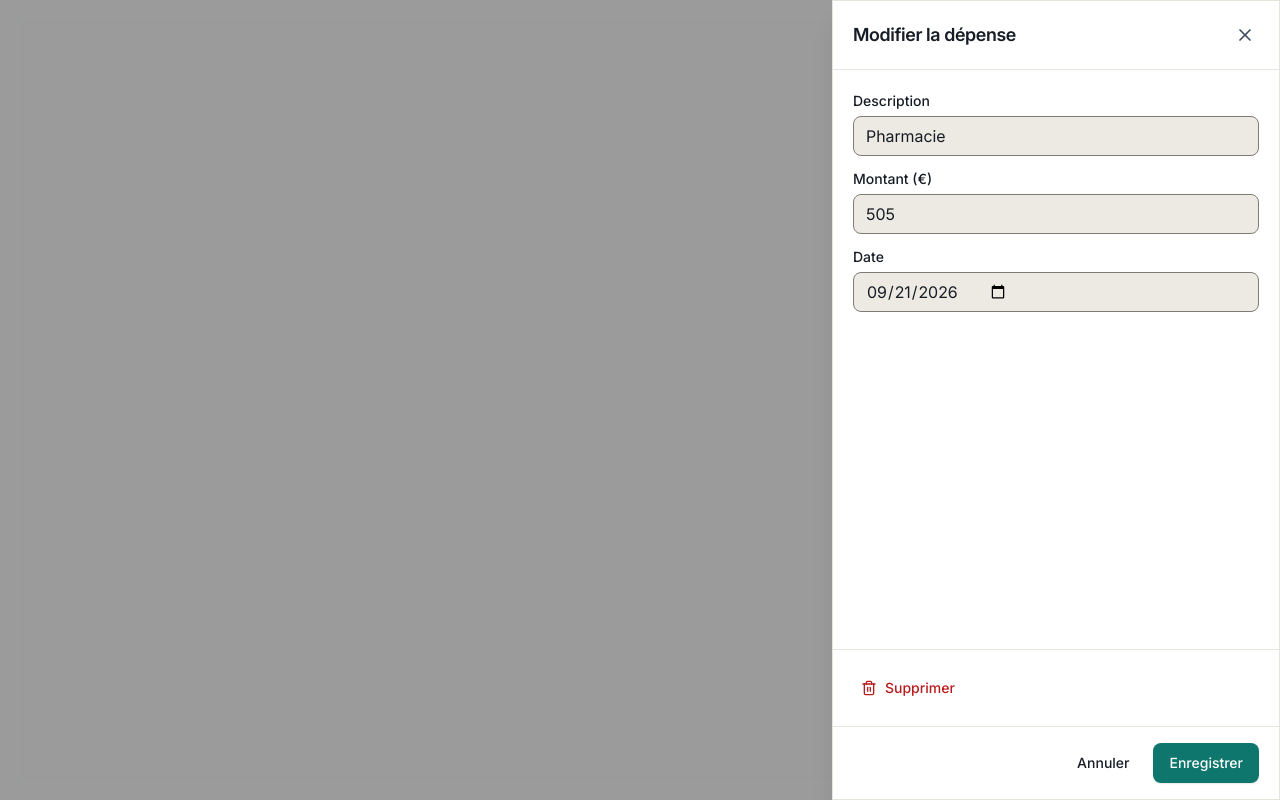
it: ExpenseEditDrawer — a refused date › names the date under its field, linked to the field
Type "2099-01-01" into the date field with test id "expense-edit-occurred-on".
click(1056, 292); type("2099-01-01")  # box [853,272,1259,312]
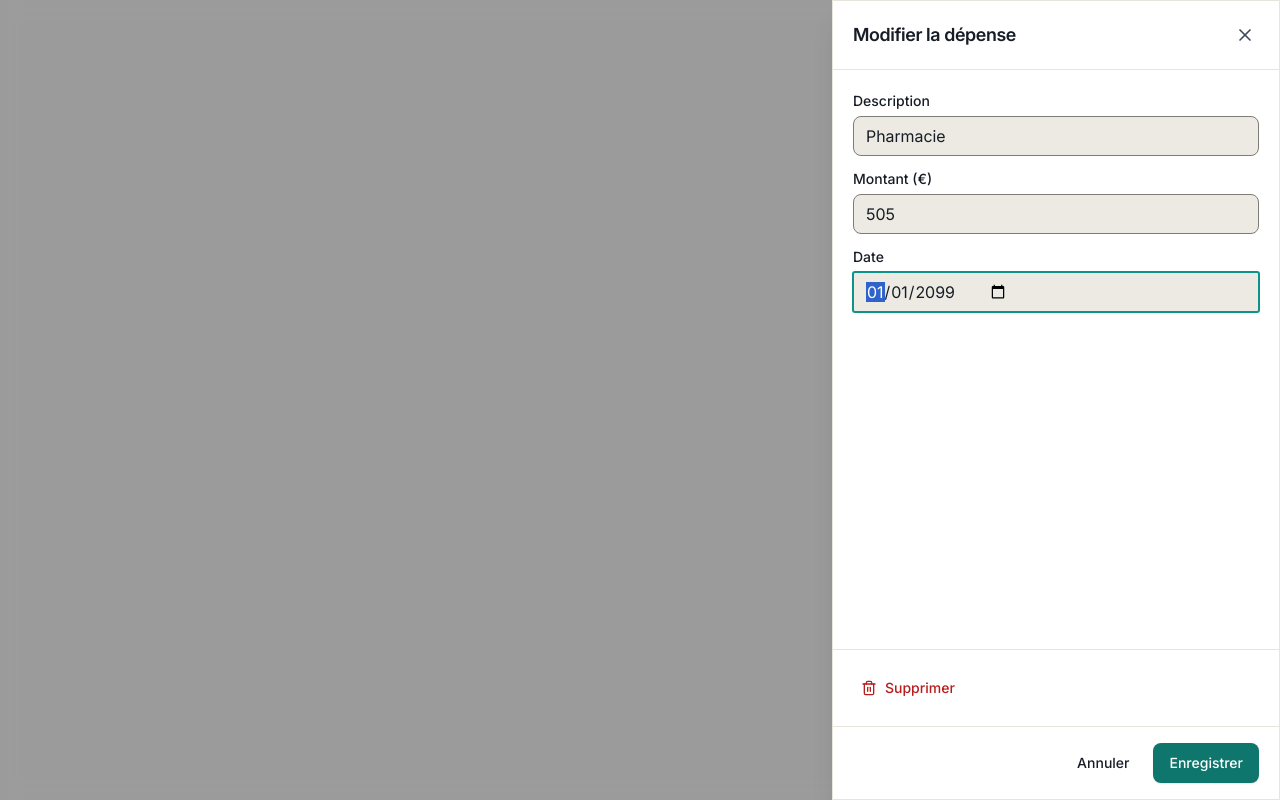
Click the button with test id "expense-edit-save".
click(1206, 763)  # box [1154,743,1259,783]
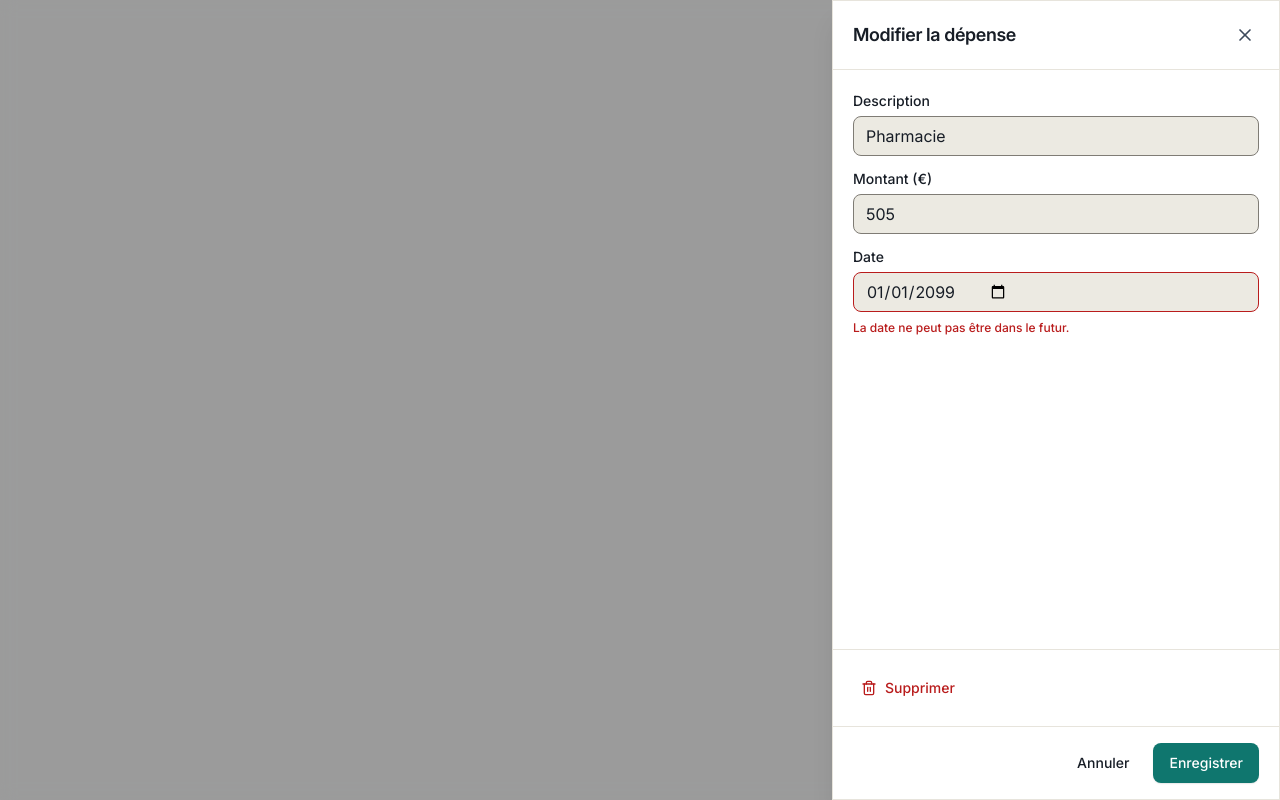
Expected: the message with test id "expense-edit-date-error" reads "La date ne peut pas être dans le futur.", [853,320,1070,335]
